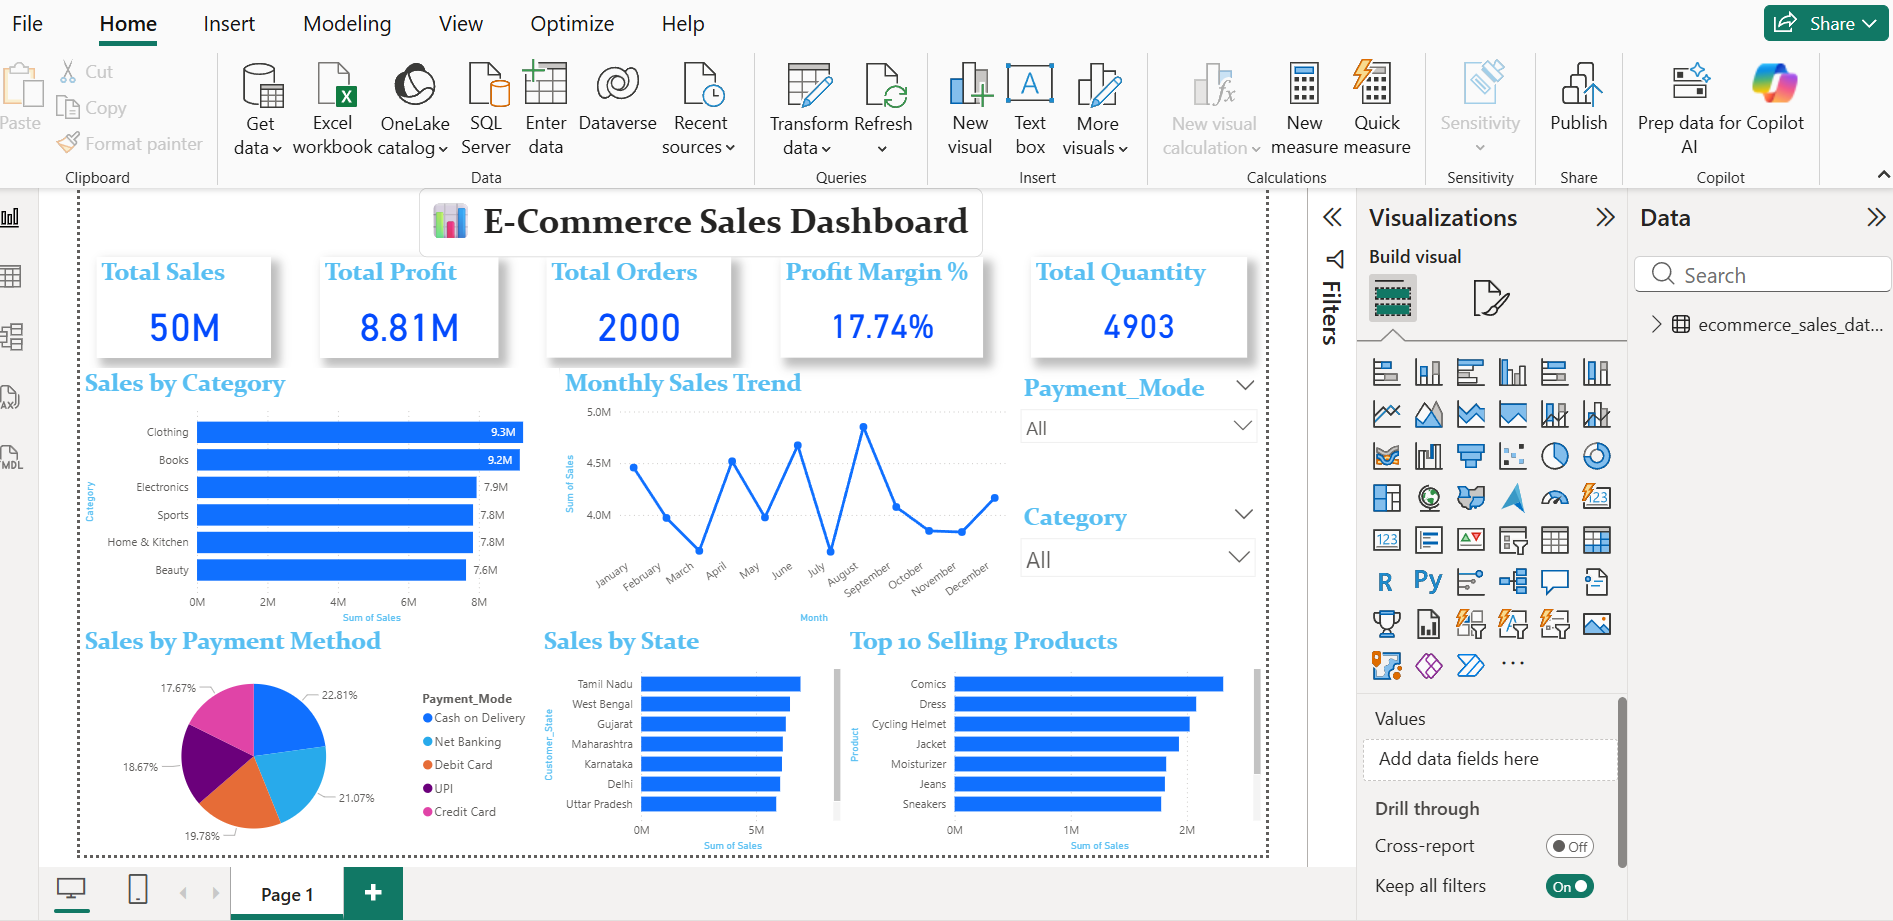

What the dashboard file says about the page in this screenshot:
{"tool":"powerbi","page":{"name":"Page 1","canvas":[1280,720],"ordinal":0},"visuals":[{"type":"card","title":"Total Sales","fields":{"Values":["Sum(ecommerce_sales_dataset_powerbi.Sales)"]},"box":[17.8,74.5,187.8,108.5],"z":0},{"type":"card","title":"Total Profit","fields":{"Values":["Sum(ecommerce_sales_dataset_powerbi.Profit)"]},"box":[259.1,74.5,192.7,108.5],"z":1000},{"type":"card","title":"Total Orders","fields":{"Values":["Count(ecommerce_sales_dataset_powerbi.Order_ID)"]},"box":[503.6,74.5,199.2,108.5],"z":2000},{"type":"lineChart","title":"Monthly Sales Trend","fields":{"Category":["ecommerce_sales_dataset_powerbi.Order_Date.Variation.Date Hierarchy.Month"],"Y":["Sum(ecommerce_sales_dataset_powerbi.Sales)"]},"box":[517.4,193.6,488.1,279.9],"z":3000},{"type":"pieChart","title":"Sales by Payment Method","fields":{"Category":["ecommerce_sales_dataset_powerbi.Payment_Mode"],"Y":["Sum(ecommerce_sales_dataset_powerbi.Sales)"]},"box":[0,472.8,495.5,247.7],"z":4000},{"type":"slicer","fields":{"Values":["ecommerce_sales_dataset_powerbi.Category"]},"box":[1005.5,333.6,273.6,139.3],"z":5000},{"type":"clusteredBarChart","title":"Sales by Category","fields":{"Category":["ecommerce_sales_dataset_powerbi.Category"],"Y":["Sum(ecommerce_sales_dataset_powerbi.Sales)"]},"box":[0,193.6,517.4,279.9],"z":6000},{"type":"clusteredBarChart","title":"Top 10 Selling Products","fields":{"Category":["ecommerce_sales_dataset_powerbi.Product"],"Y":["Sum(ecommerce_sales_dataset_powerbi.Sales)"]},"box":[825.8,472.8,453.4,247.7],"z":7000},{"type":"clusteredBarChart","title":"Sales by State","fields":{"Y":["Sum(ecommerce_sales_dataset_powerbi.Sales)"],"Category":["ecommerce_sales_dataset_powerbi.Customer_State"]},"box":[495.5,472.8,330.3,247.7],"z":8000},{"type":"slicer","fields":{"Values":["ecommerce_sales_dataset_powerbi.Payment_Mode"]},"box":[1005.5,194.3,275.3,139.3],"z":9000},{"type":"card","title":"Profit Margin %","fields":{"Values":["ecommerce_sales_dataset_powerbi.Profit Margin"]},"box":[756.2,74.5,218.6,108.5],"z":10000},{"type":"card","title":"Total Quantity","fields":{"Values":["ecommerce_sales_dataset_powerbi.Total Quantity"]},"box":[1026.6,74.5,233.2,108.5],"z":11000},{"type":"textbox","box":[365.9,0,608.8,74.5],"z":12000}]}

Visuals, with their boxes on the page's 1280x720 design canvas (x1, y1, x2, y2). These are canvas units, not pixel positions in the 1893x921 screenshot, which may show the page scaled, cropped or inside an application window:
"Total Sales" card: <box>18,74,206,183</box>
"Total Profit" card: <box>259,74,452,183</box>
"Total Orders" card: <box>504,74,703,183</box>
"Monthly Sales Trend" lineChart: <box>517,194,1006,474</box>
"Sales by Payment Method" pieChart: <box>0,473,496,720</box>
slicer - ecommerce_sales_dataset_powerbi.Category: <box>1006,334,1279,473</box>
"Sales by Category" clusteredBarChart: <box>0,194,517,474</box>
"Top 10 Selling Products" clusteredBarChart: <box>826,473,1279,720</box>
"Sales by State" clusteredBarChart: <box>496,473,826,720</box>
slicer - ecommerce_sales_dataset_powerbi.Payment_Mode: <box>1006,194,1281,334</box>
"Profit Margin %" card: <box>756,74,975,183</box>
"Total Quantity" card: <box>1027,74,1260,183</box>
textbox: <box>366,0,975,74</box>
